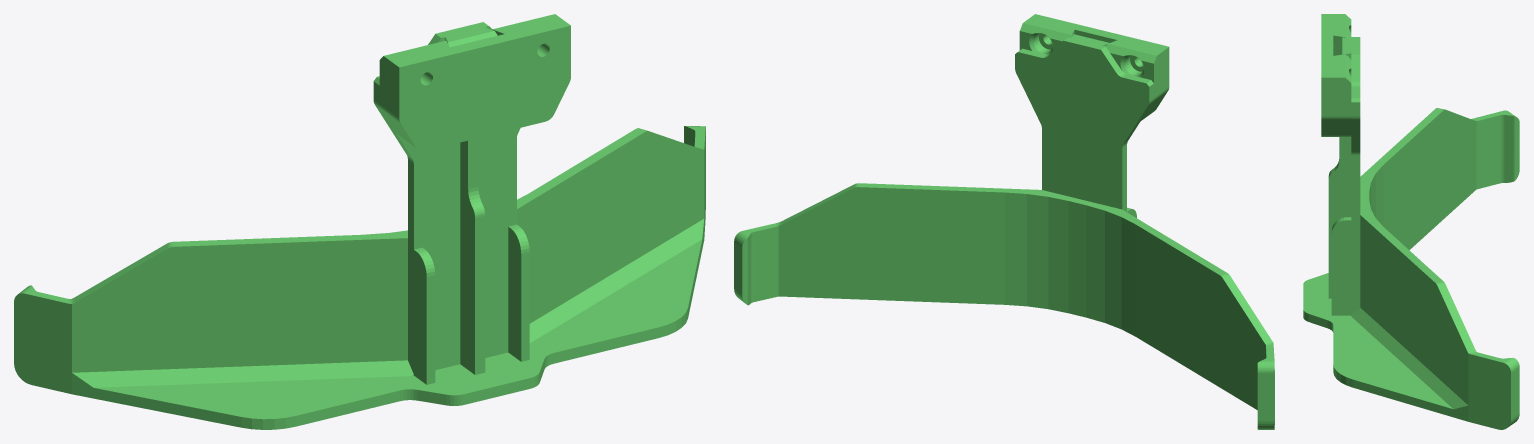
Rendered from pusher.dae.
The picture shows the model from 3 angles, left to right: view 1: azimuth 30°, elevation 25°; view 2: azimuth 150°, elevation 25°; view 3: azimuth 270°, elevation 25°; orthographic projection. The views are drawn at different scales.
Visible parts, largest first — view 1: Pusher; view 2: Pusher; view 3: Pusher.
Part boxes in pixels (x1=…): Pusher: x1=14, y1=14, x2=705, y2=429; Pusher: x1=734, y1=14, x2=1274, y2=429; Pusher: x1=1303, y1=14, x2=1519, y2=429.
Bounding box in the file's own units: 2.01 × 0.72 × 0.9505.
